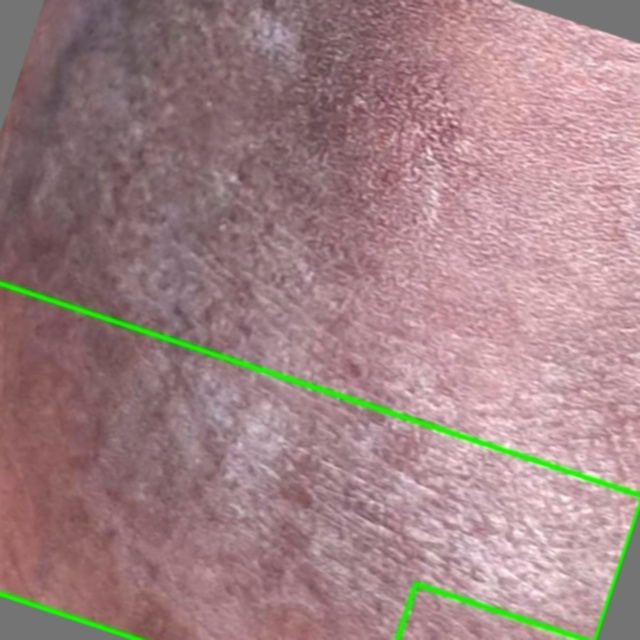Contact Dermatitis: (0, 284, 639, 639)
